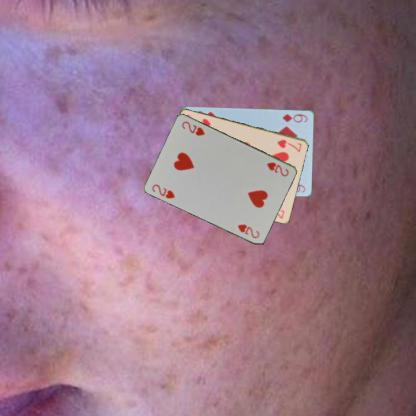2h: (264, 159, 290, 178), (150, 181, 176, 200)
6d: (280, 111, 309, 124)
7h: (275, 137, 303, 153)
